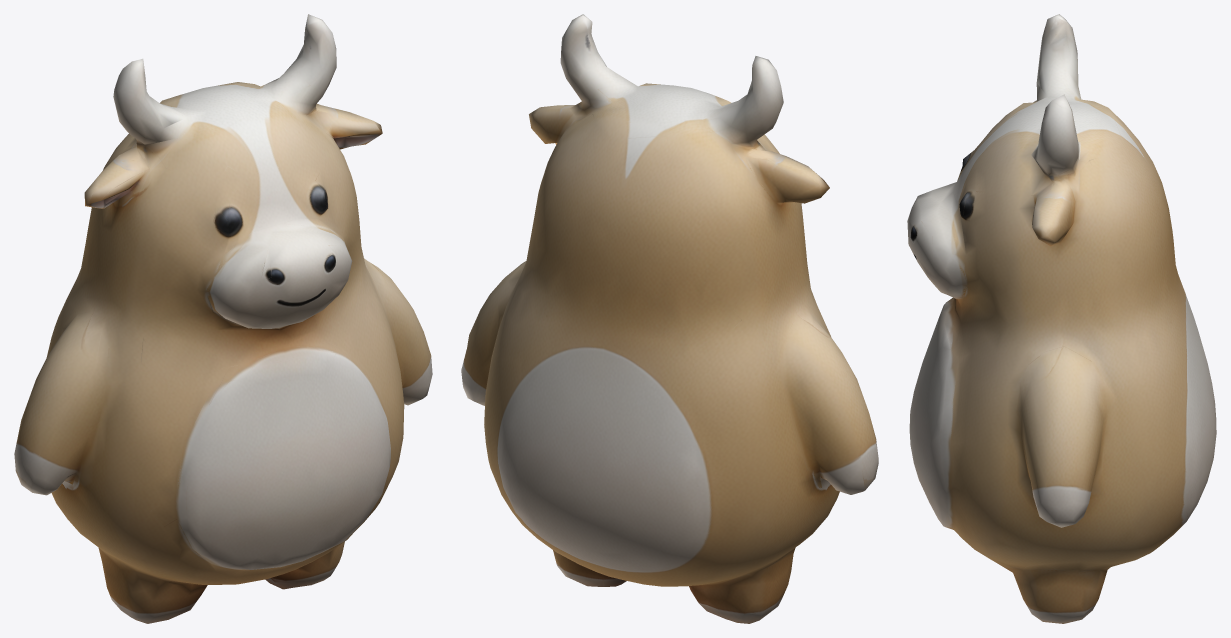
File: cow.glb
The picture shows the model from 3 angles, left to right: view 1: azimuth 30°, elevation 25°; view 2: azimuth 150°, elevation 25°; view 3: azimuth 270°, elevation 25°; orthographic projection. The views are drawn at different scales.
Visible parts, largest first — view 1: material_0; view 2: material_0; view 3: material_0.
Part boxes in pixels (box(x1,y1,x2,y2)): material_0: box(14, 14, 432, 623); material_0: box(461, 14, 878, 623); material_0: box(907, 14, 1216, 623).
Bounding box in the file's own units: 0.7508 × 0.9934 × 0.5262.
Materials: 1 (1 with a texture image).
